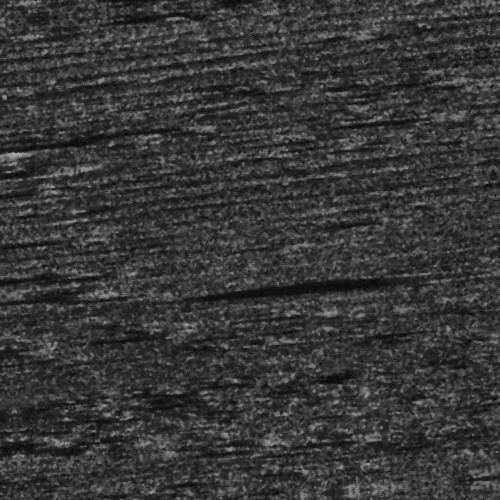object: (400, 285, 500, 298), (10, 146, 125, 157), (41, 269, 104, 280), (0, 125, 54, 134), (101, 122, 164, 127), (431, 130, 484, 135)
shadow: (269, 285, 462, 298), (0, 269, 72, 280), (0, 146, 67, 157), (0, 122, 132, 127), (362, 130, 457, 135), (457, 492, 500, 500)
